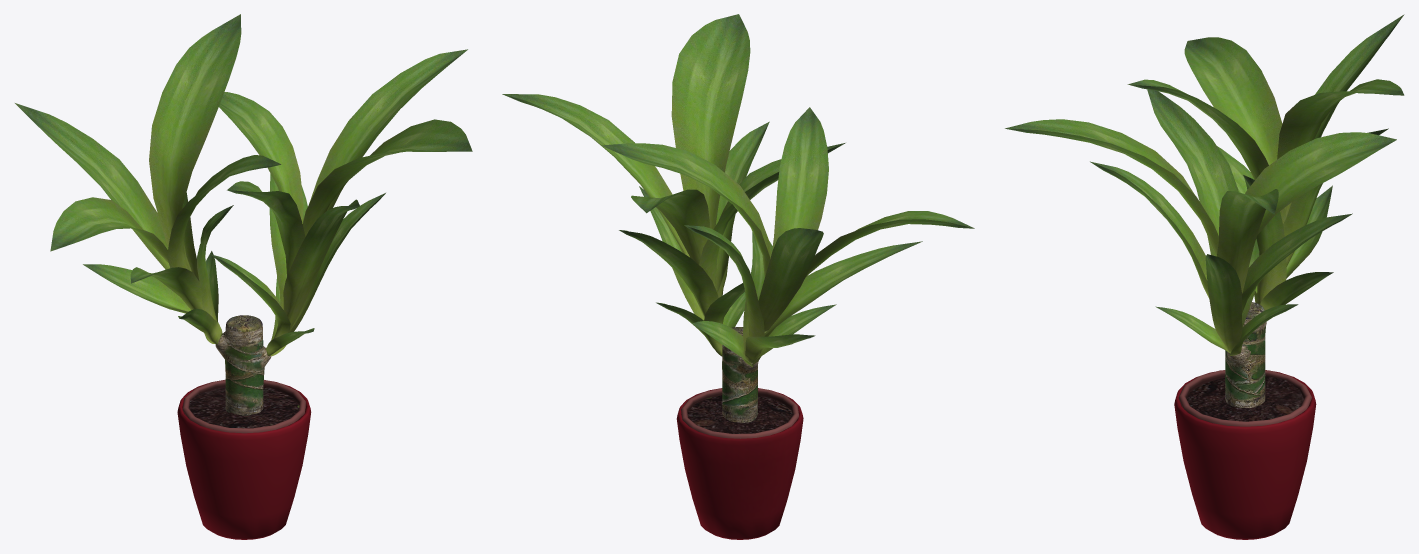
File: indoor plant.fbx
3 views of the same model, side by side, from view 1: azimuth 30°, elevation 25°; view 2: azimuth 150°, elevation 25°; view 3: azimuth 270°, elevation 25° (orthographic). The views are drawn at different scales.
Parts seen in each view (by area): view 1: indoor plant_02; view 2: indoor plant_02; view 3: indoor plant_02.
Boxes of the visible parts, bbox=[...] form: indoor plant_02: bbox=[15, 14, 472, 539]; indoor plant_02: bbox=[502, 14, 974, 539]; indoor plant_02: bbox=[1005, 14, 1404, 539].
Size of the model in its own units: 134 by 123 by 95.59.
